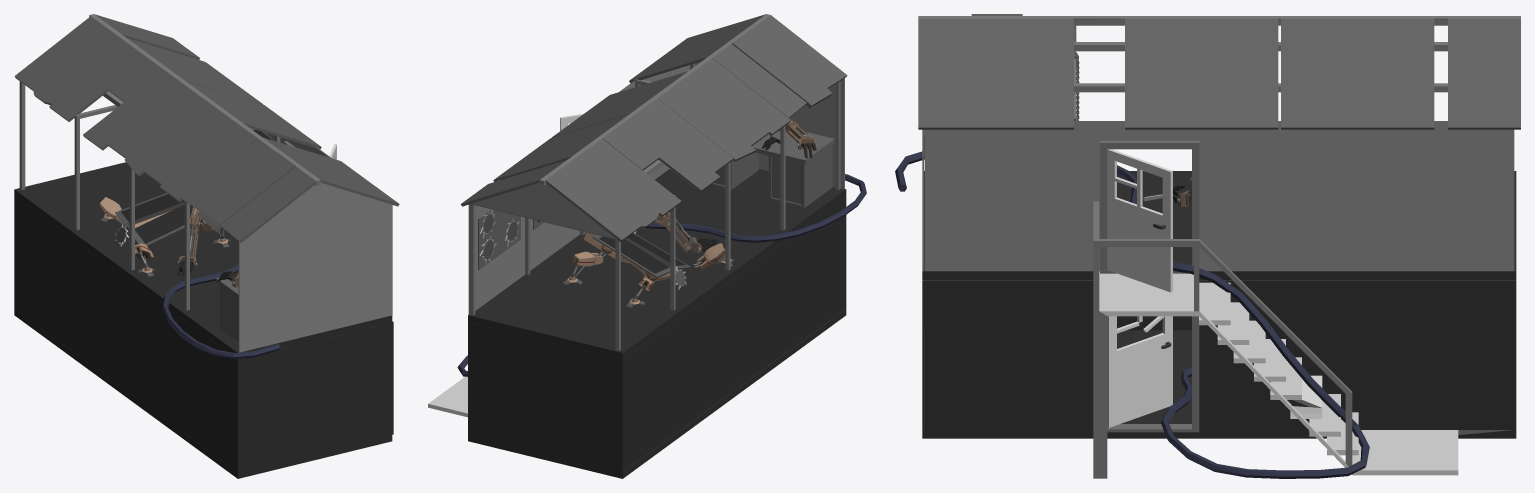
File: Garage_noGenerator.fbx
3 views of the same model, side by side, from view 1: azimuth 30°, elevation 25°; view 2: azimuth 150°, elevation 25°; view 3: azimuth 270°, elevation 25° (orthographic). The views are drawn at different scales.
Visible parts, largest first — view 1: Garage_geo, WoodCutterWreckage_geo, cable_geo, workBench; view 2: Garage_geo, workBench, WoodCutterWreckage_geo, cable_geo, toolRack_1; view 3: Garage_geo, cable_geo.
Part boxes in pixels (x1,y1,x2,y2): Garage_geo: (14,14,399,478); WoodCutterWreckage_geo: (99,193,230,276); cable_geo: (162,264,280,359); workBench: (216,277,238,341); Garage_geo: (428,14,847,478); workBench: (711,131,834,207); WoodCutterWreckage_geo: (562,212,734,307); cable_geo: (457,174,866,376); toolRack_1: (478,209,520,270); Garage_geo: (918,14,1520,478); cable_geo: (895,151,1369,478).
Bounding box in the file's own units: 986 × 1017 × 1544.
